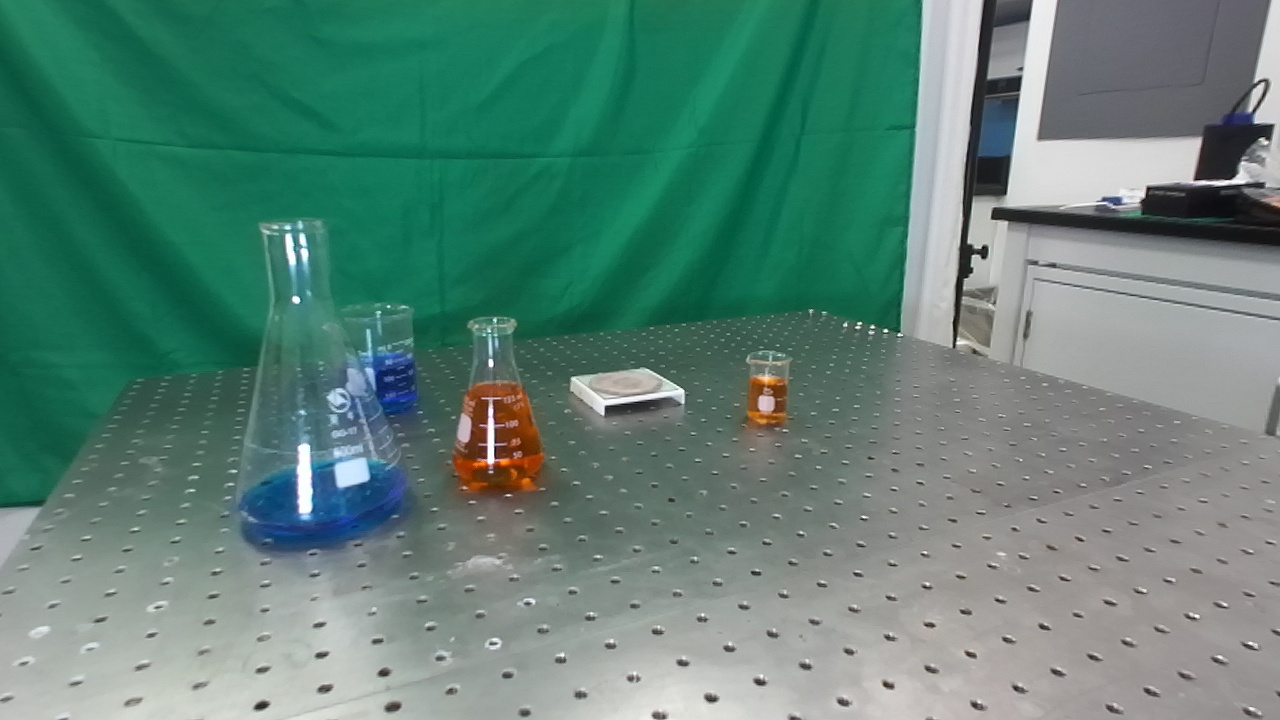glass: (229, 211, 414, 550), (445, 313, 548, 492), (331, 296, 419, 418), (738, 346, 794, 429)
plate: (567, 365, 688, 420)
